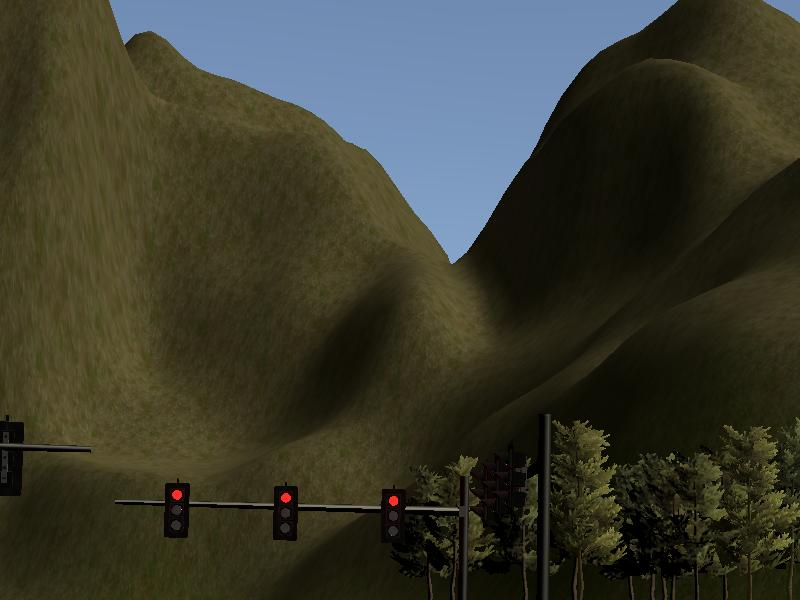red: (164, 483, 189, 539), (273, 485, 298, 541), (382, 489, 407, 545)
